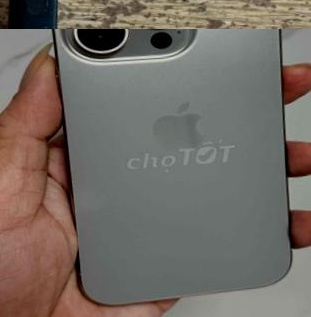scratch: (0, 0, 117, 29)
